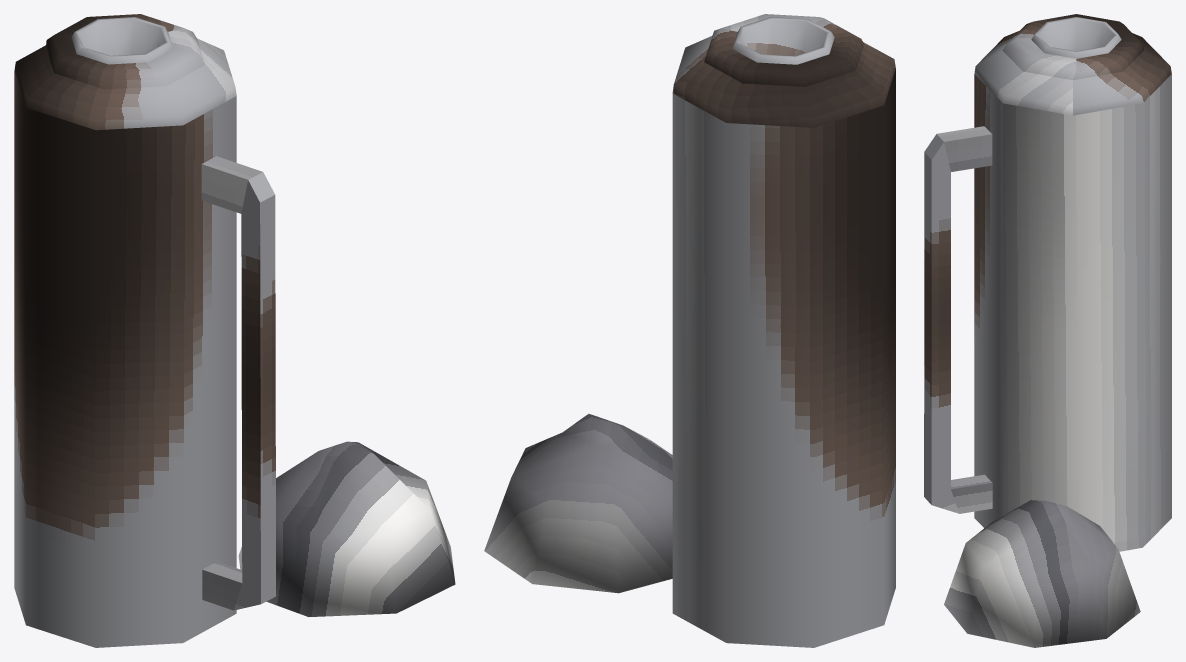
The model's file is CoffeeThermos.fbx.
The picture shows the model from 3 angles, left to right: view 1: azimuth 30°, elevation 25°; view 2: azimuth 150°, elevation 25°; view 3: azimuth 270°, elevation 25°; orthographic projection. The views are drawn at different scales.
Parts seen in each view (by area): view 1: CoffeeThermos; view 2: CoffeeThermos; view 3: CoffeeThermos.
Part boxes in pixels (x1,y1,x2,y2): CoffeeThermos: [14, 14, 455, 647]; CoffeeThermos: [484, 14, 895, 647]; CoffeeThermos: [924, 14, 1171, 647].
Bounding box in the file's own units: 37 × 50.12 × 22.98.
